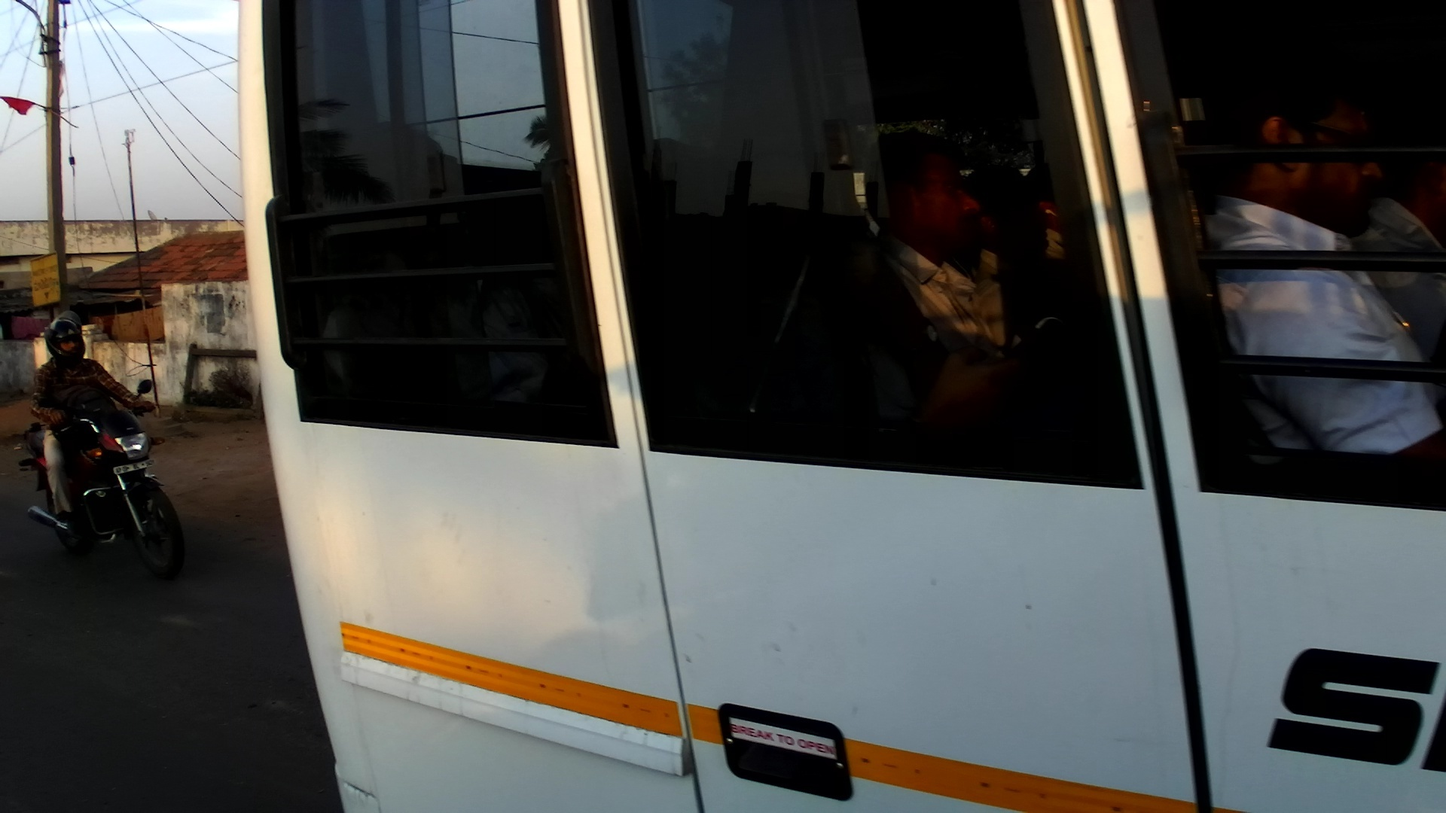bus: (239, 1, 1446, 813)
motorcycle: (17, 377, 184, 579)
rider: (29, 314, 162, 552)
